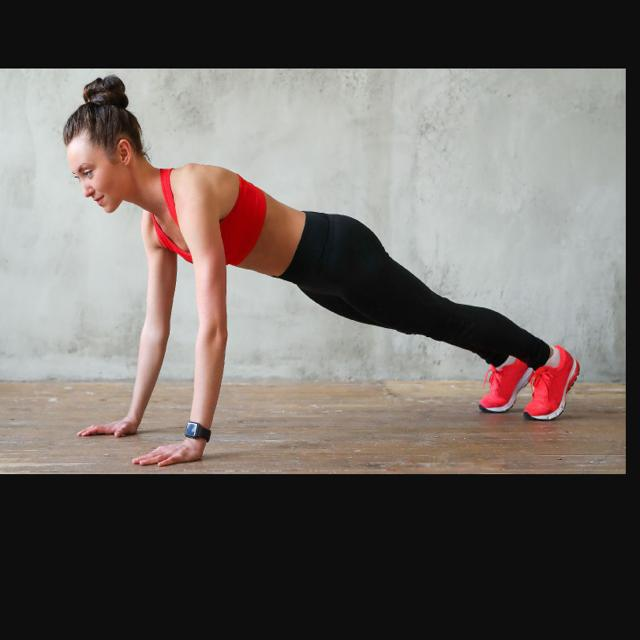Plank_Pose: (60, 82, 596, 470)
